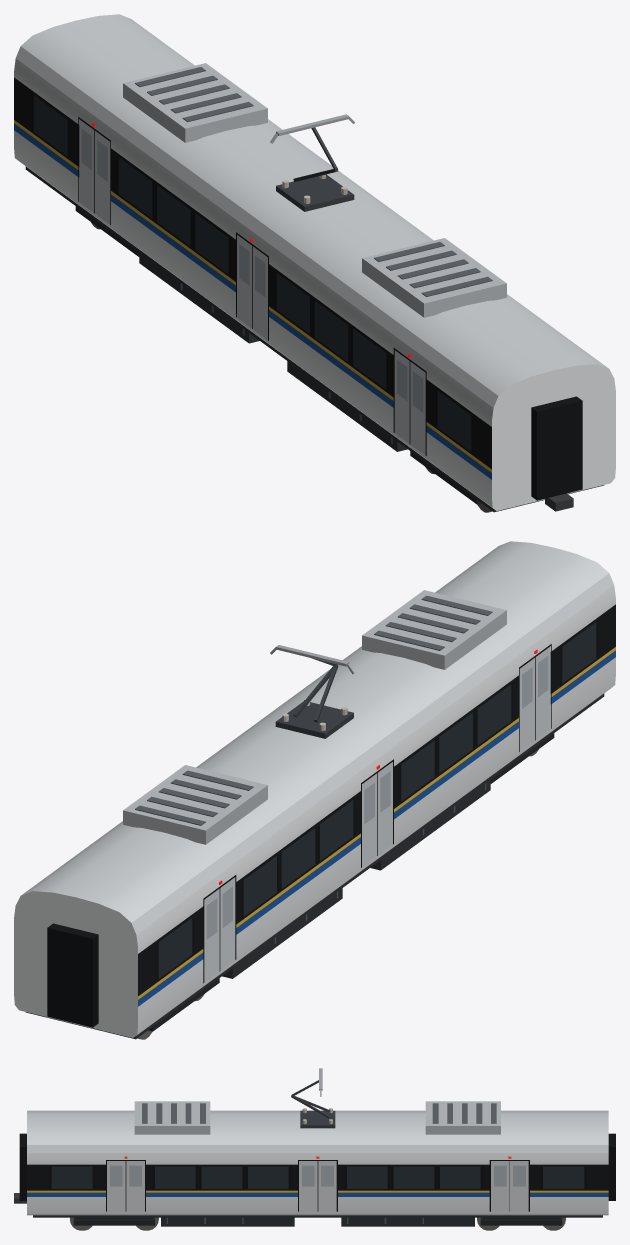
Rendered from emu800-middle.glb.
The picture shows the model from 3 angles, top to bottom: view 1: azimuth 30°, elevation 25°; view 2: azimuth 150°, elevation 25°; view 3: azimuth 270°, elevation 25°; orthographic projection. The views are drawn at different scales.
Visible parts, largest first — view 1: EMU800_Middle; view 2: EMU800_Middle; view 3: EMU800_Middle.
Part boxes in pixels (bbox=[...]): EMU800_Middle: bbox=[14, 14, 615, 512]; EMU800_Middle: bbox=[14, 541, 615, 1039]; EMU800_Middle: bbox=[14, 1068, 615, 1230].
Bounding box in the file's own units: 3.08 × 5.48 × 20.7.
